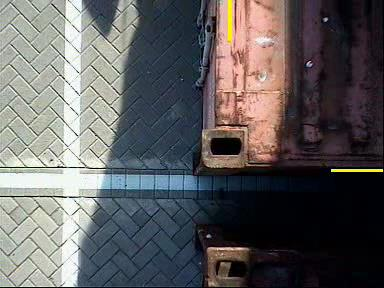groundmarker_2: (128, 72, 189, 113), (125, 245, 186, 286)
